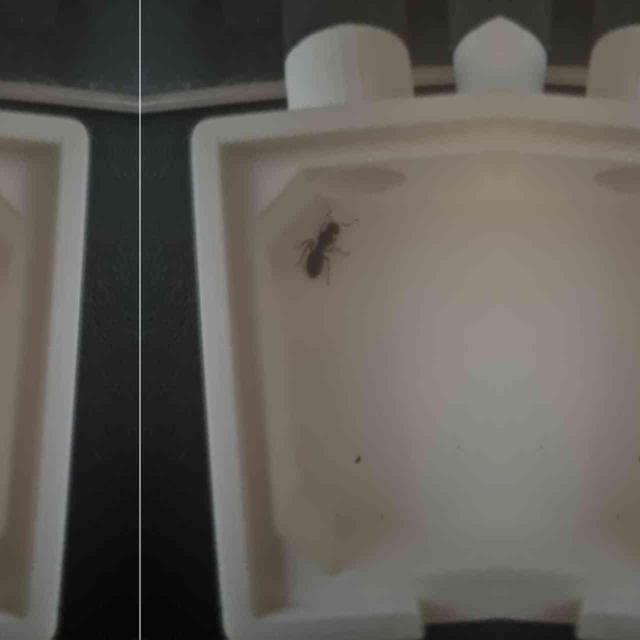Lasius: (296, 204, 350, 278)
